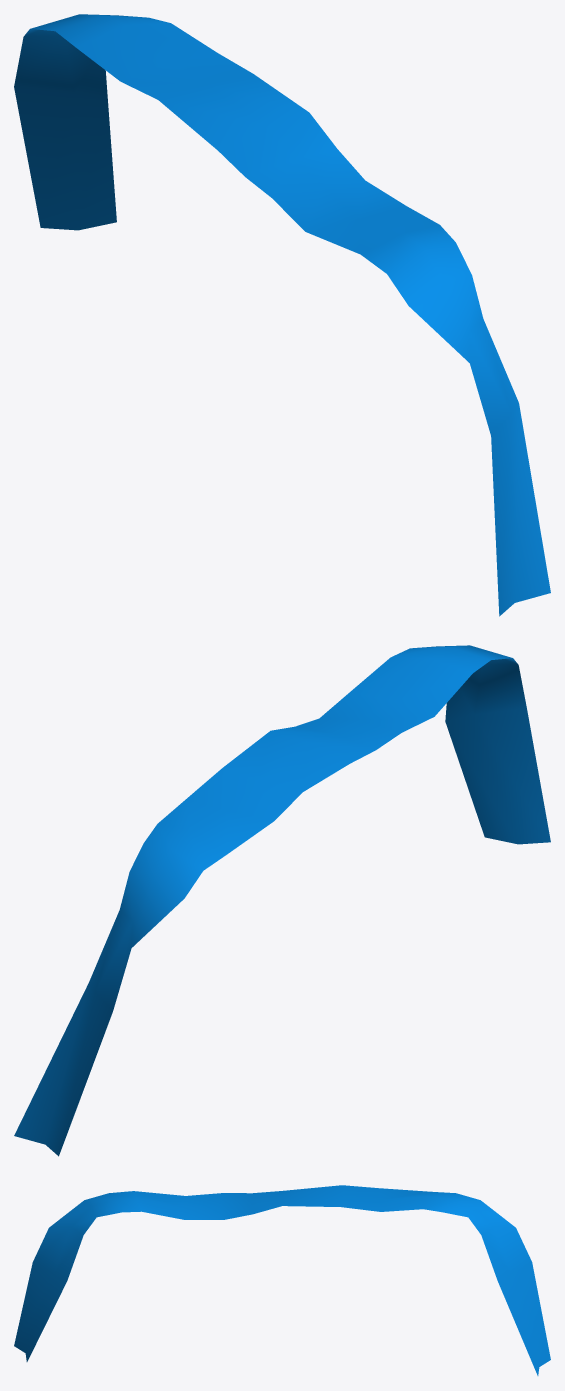
Rendered from Water.fbx.
3 renders of one model, top to bottom at view 1: azimuth 30°, elevation 25°; view 2: azimuth 150°, elevation 25°; view 3: azimuth 270°, elevation 25°, orthographic. The views are drawn at different scales.
Parts seen in each view (by area): view 1: Water; view 2: Water; view 3: Water.
Boxes of the visible parts, x1,y1,x2,y2 form: Water: (14, 14, 550, 616); Water: (14, 645, 550, 1156); Water: (14, 1185, 550, 1375).
Bounding box in the file's own units: 1.21 × 2.35 × 7.26.
